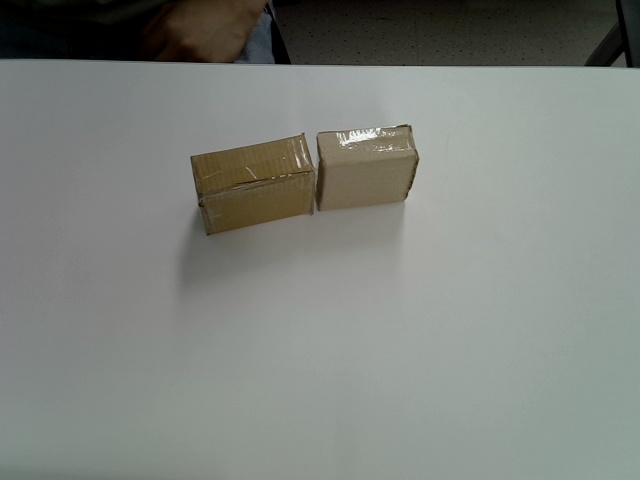normal: (189, 132, 316, 235), (315, 123, 420, 212)
